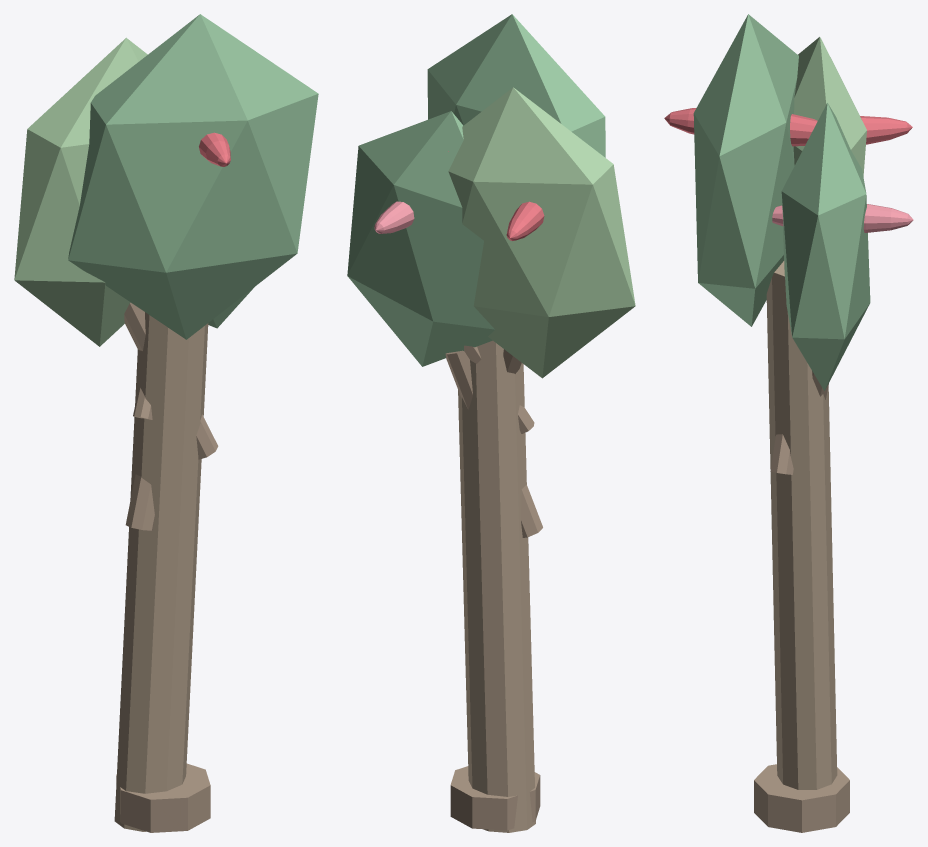
Rendered from TREE_BOTTLEBRUSH_001_LOD_CLOSE.glb.
3 views of the same model, side by side, from view 1: azimuth 30°, elevation 25°; view 2: azimuth 150°, elevation 25°; view 3: azimuth 270°, elevation 25° (orthographic). The views are drawn at different scales.
Parts seen in each view (by area): view 1: TREE_BOTTLEBRUSH_001_LEAF_CLUSTER, TREE_BOTTLEBRUSH_001_TRUNK, TREE_BOTTLEBRUSH_001_GROUND_SOCKET, TREE_BOTTLEBRUSH_001_BRANCH, TREE_BOTTLEBRUSH_001_FLOWER_CLUSTER; view 2: TREE_BOTTLEBRUSH_001_LEAF_CLUSTER, TREE_BOTTLEBRUSH_001_TRUNK, TREE_BOTTLEBRUSH_001_GROUND_SOCKET, TREE_BOTTLEBRUSH_001_BRANCH, TREE_BOTTLEBRUSH_001_FLOWER_CLUSTER; view 3: TREE_BOTTLEBRUSH_001_LEAF_CLUSTER, TREE_BOTTLEBRUSH_001_TRUNK, TREE_BOTTLEBRUSH_001_GROUND_SOCKET, TREE_BOTTLEBRUSH_001_FLOWER_CLUSTER, TREE_BOTTLEBRUSH_001_BRANCH.
Boxes of the visible parts, <box> form: TREE_BOTTLEBRUSH_001_LEAF_CLUSTER: <box>14,14,318,346</box>; TREE_BOTTLEBRUSH_001_TRUNK: <box>114,312,208,831</box>; TREE_BOTTLEBRUSH_001_GROUND_SOCKET: <box>116,763,210,832</box>; TREE_BOTTLEBRUSH_001_BRANCH: <box>124,302,218,530</box>; TREE_BOTTLEBRUSH_001_FLOWER_CLUSTER: <box>199,132,230,166</box>; TREE_BOTTLEBRUSH_001_LEAF_CLUSTER: <box>347,14,635,378</box>; TREE_BOTTLEBRUSH_001_TRUNK: <box>458,340,535,832</box>; TREE_BOTTLEBRUSH_001_GROUND_SOCKET: <box>450,766,540,830</box>; TREE_BOTTLEBRUSH_001_BRANCH: <box>445,345,542,537</box>; TREE_BOTTLEBRUSH_001_FLOWER_CLUSTER: <box>374,151,544,240</box>; TREE_BOTTLEBRUSH_001_LEAF_CLUSTER: <box>693,14,870,390</box>; TREE_BOTTLEBRUSH_001_TRUNK: <box>766,261,837,789</box>; TREE_BOTTLEBRUSH_001_GROUND_SOCKET: <box>754,764,849,832</box>; TREE_BOTTLEBRUSH_001_FLOWER_CLUSTER: <box>664,108,913,232</box>; TREE_BOTTLEBRUSH_001_BRANCH: <box>770,371,828,474</box>.
Bounding box in the file's own units: 1.61 × 4.47 × 1.25.
